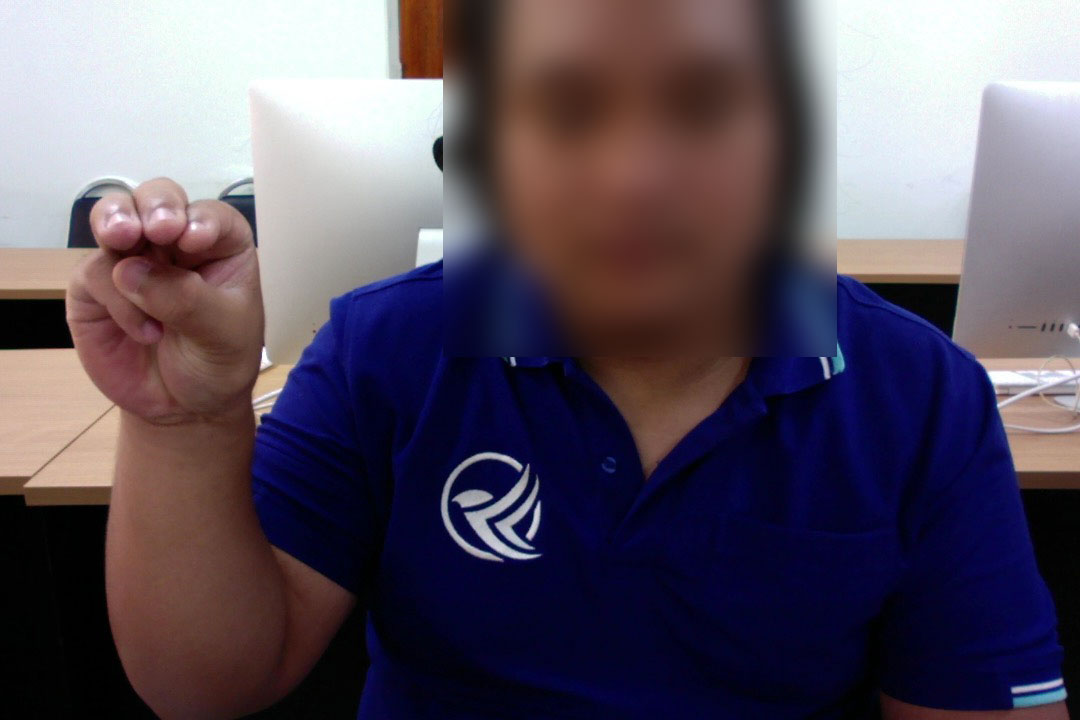mor: (64, 176, 268, 443)
